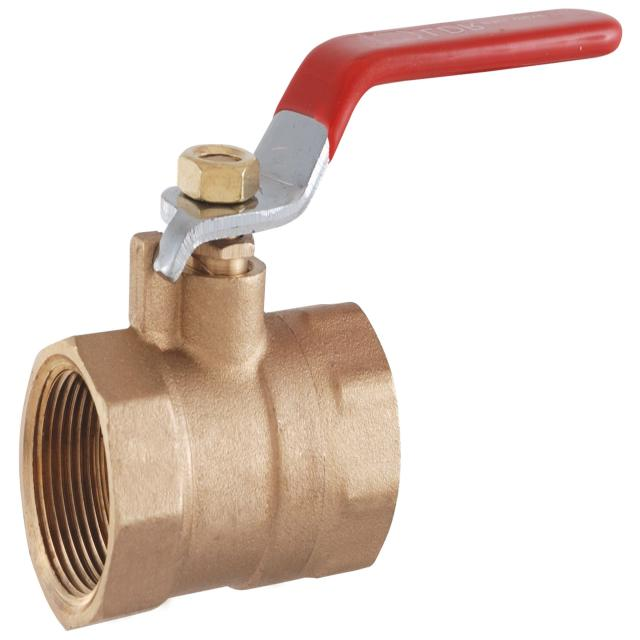Lever Handle Valve Threaded: (116, 0, 626, 337)
